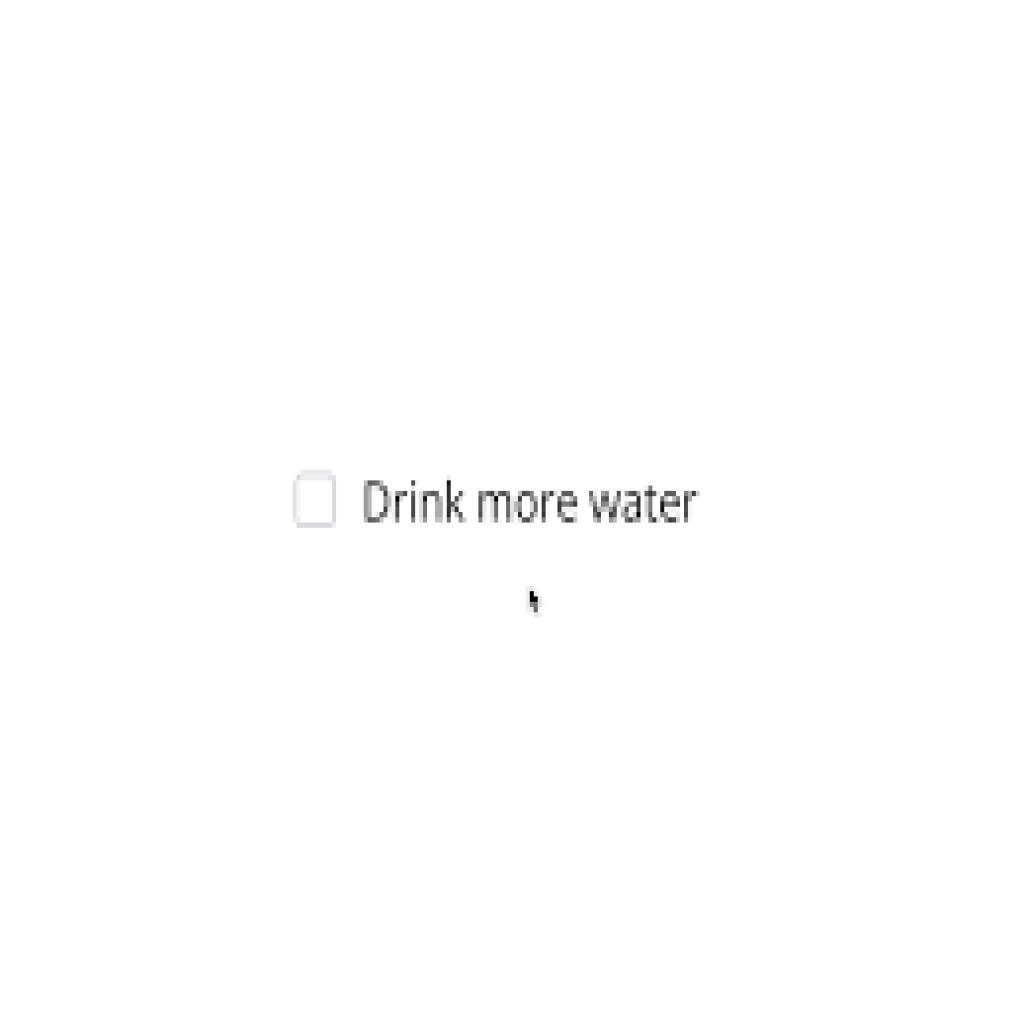checkbox: (294, 475, 339, 524)
label: (363, 477, 700, 534)
